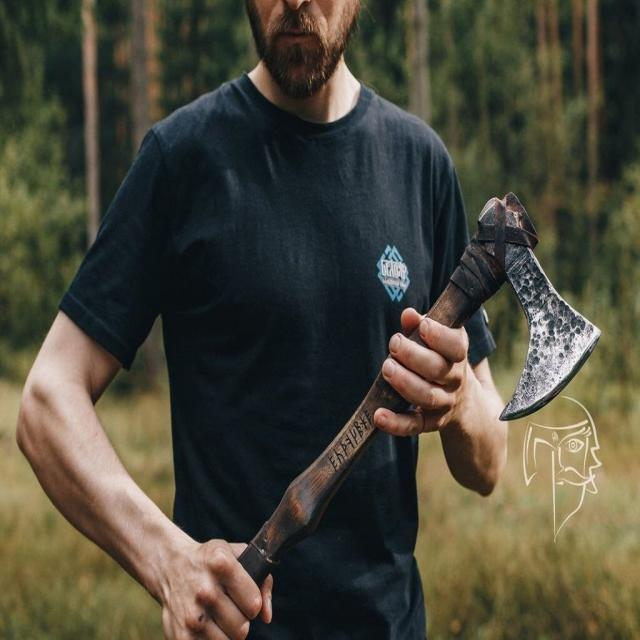axe: (245, 192, 611, 568)
